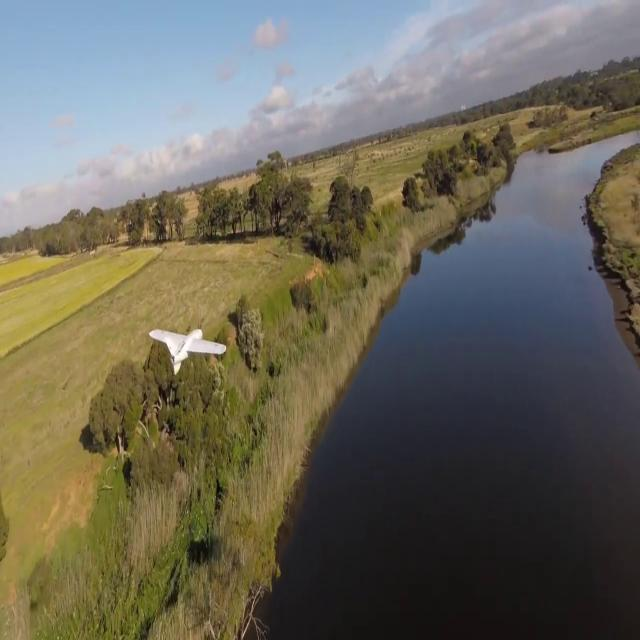iha: (180, 323, 198, 365)
